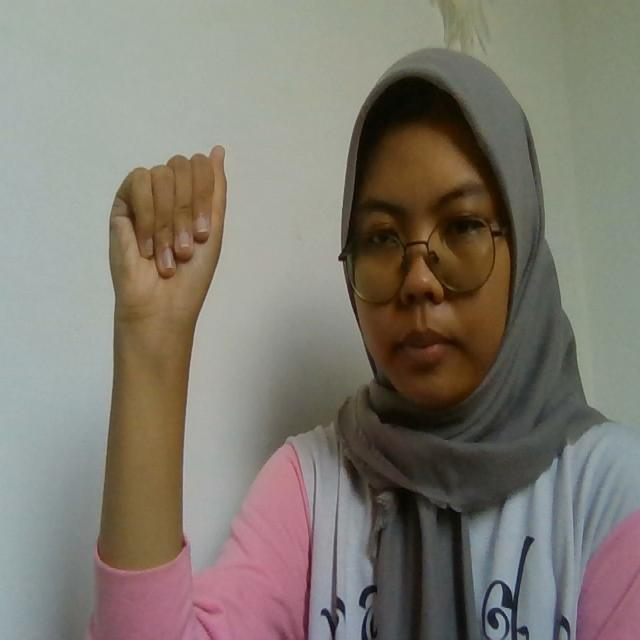A: (109, 145, 231, 315)
